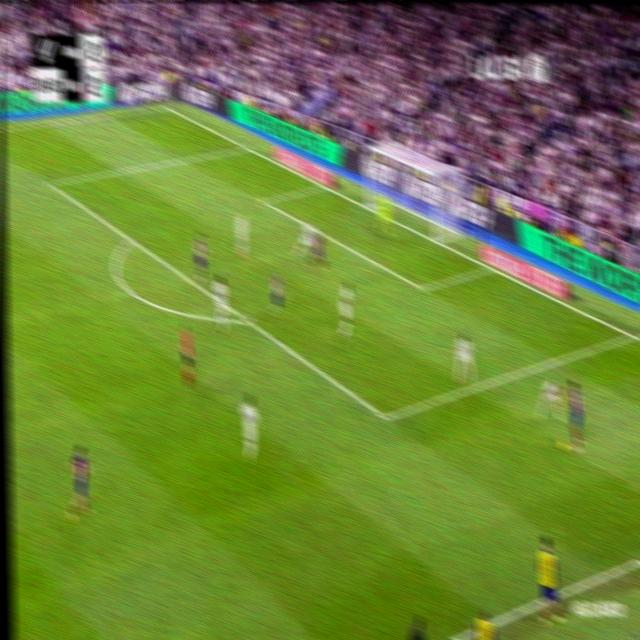bigarea_bottom_inner: (378, 401, 394, 432)
bigarea_bottom_outter: (626, 325, 639, 344)
bigarea_top_inner: (44, 173, 56, 192)
bigarea_top_outter: (241, 138, 252, 154)
bottom_arc_area_intersection: (240, 310, 254, 329)
corner: (160, 100, 172, 113)
smallarea_bottom_inner: (417, 277, 428, 299)
smallarea_top_inner: (259, 194, 270, 209)
top_arc_area_intersection: (126, 229, 137, 248)
